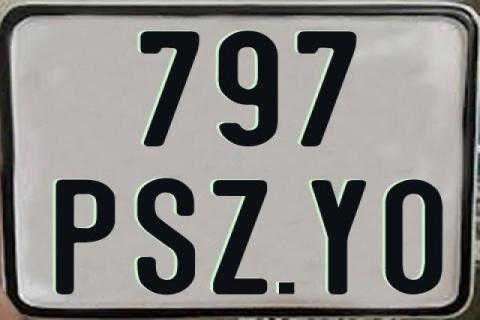0: (140, 29, 204, 150), (294, 32, 359, 150), (382, 177, 446, 293), (217, 30, 279, 146)
P: (56, 178, 117, 296)
S: (135, 176, 194, 296)
Y: (310, 180, 370, 299)
Z: (212, 180, 271, 299)
